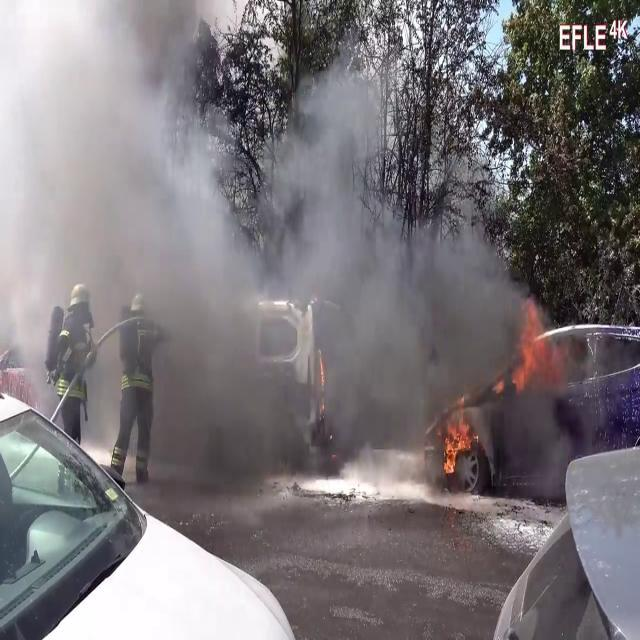Fire: (508, 300, 558, 390), (440, 398, 476, 478)
Smoke: (0, 5, 532, 503)
